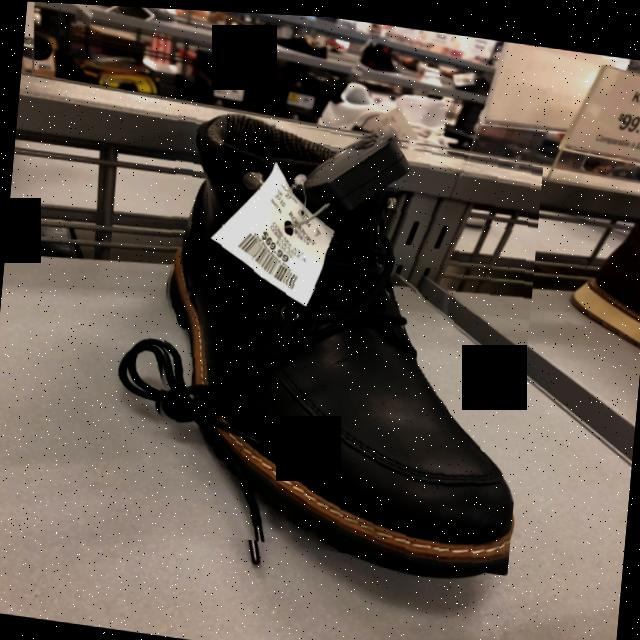shoe: (165, 117, 513, 570)
